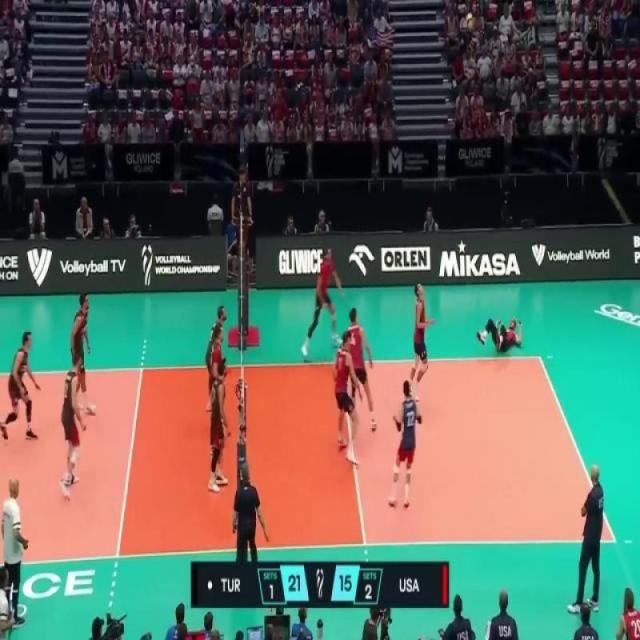volleyball: (465, 10, 475, 33)
